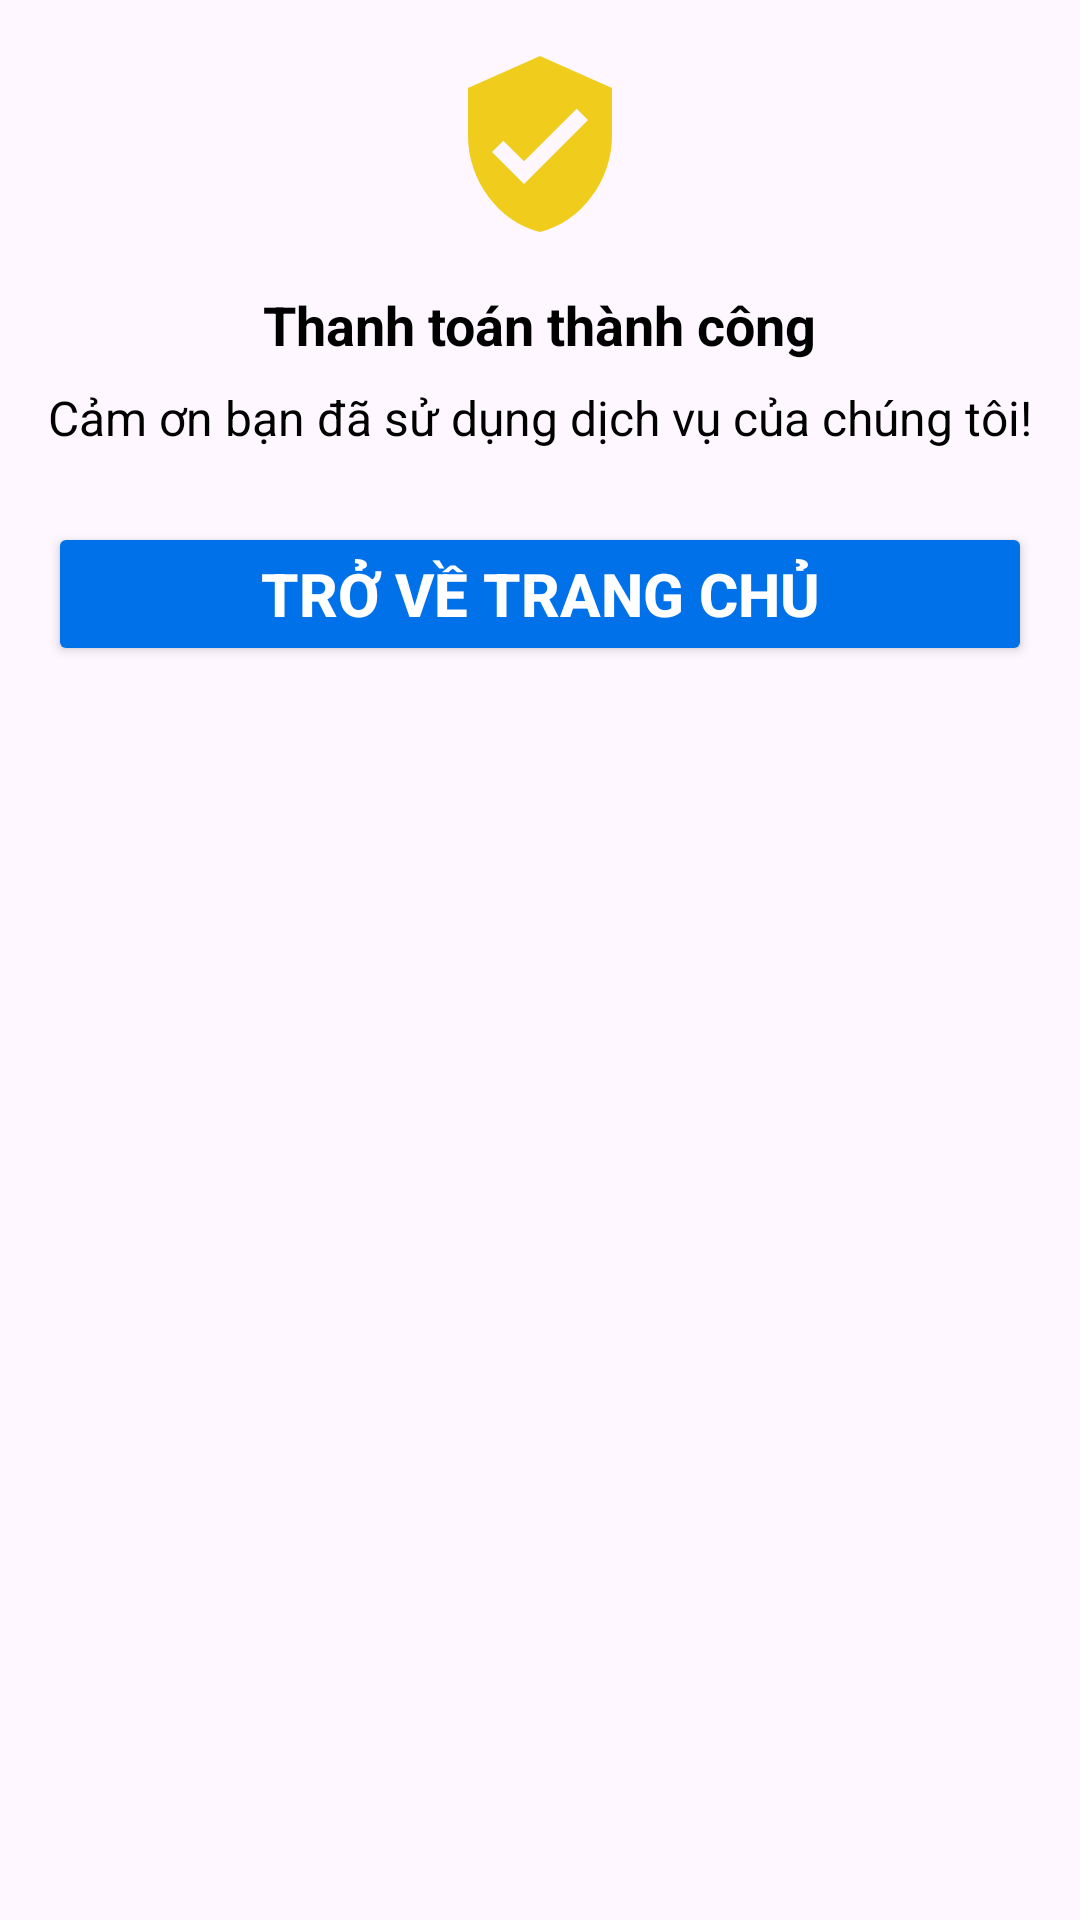

Named icons in this screenshot (1080x1920) and their bounding boxes, bbox=[x1, y1, x2, y2]:
verified user: bbox=[468, 56, 612, 232]
